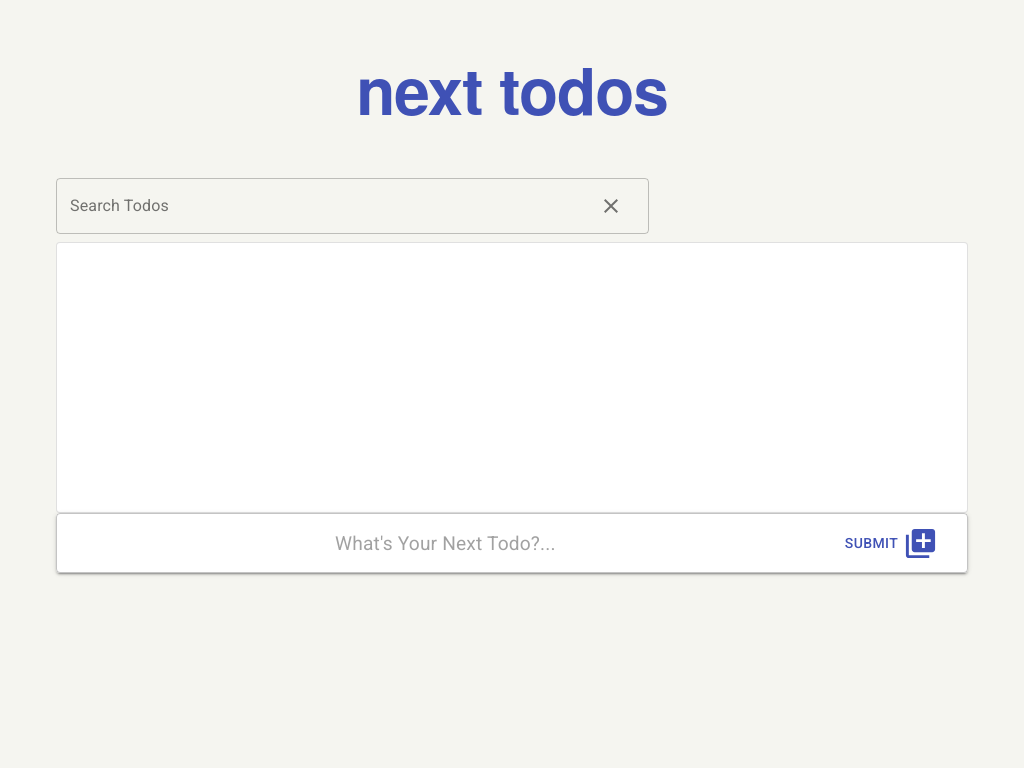
it: Adding todo items › Add a single todo item | Keyboard
In the field with placeholder "What's Your Next Todo?...": (439, 543) top-left (56, 513), bottom-right (821, 573), type "Add a todo by hitting enter (return)"
Then press Enter
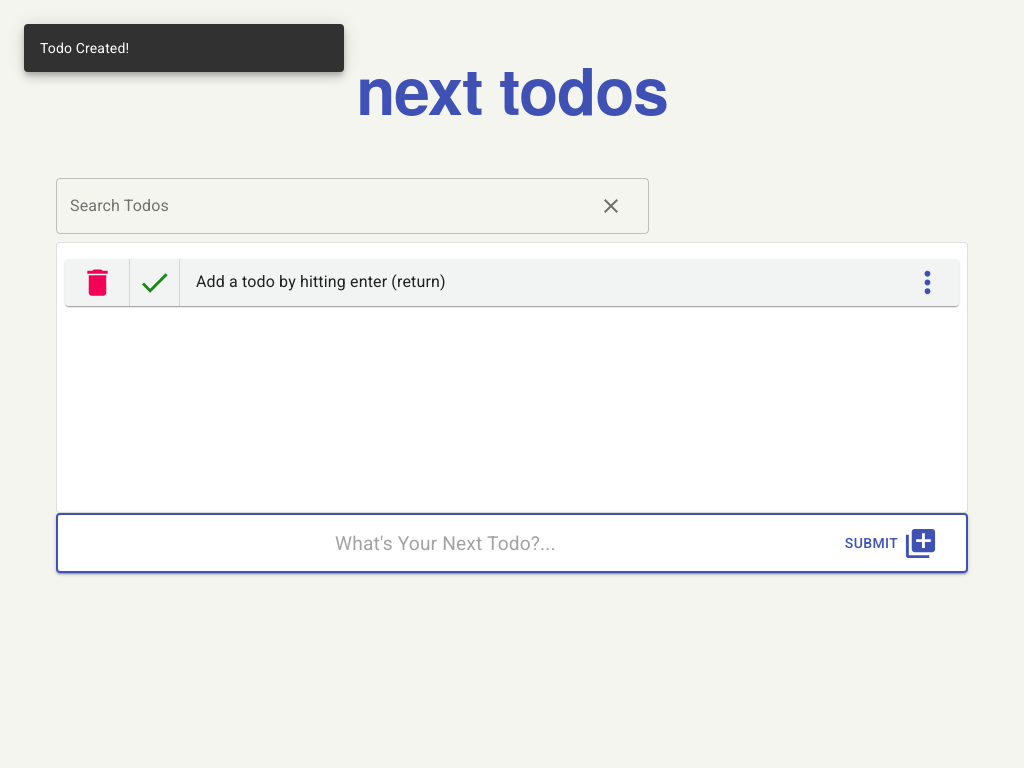
Result: the text "Add a todo by hitting enter (return)" is shown at top-left (196, 272), bottom-right (446, 291)
